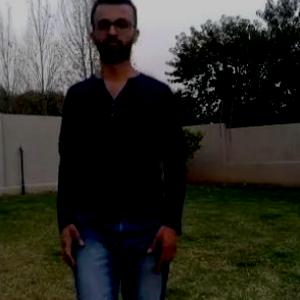follow: (66, 5, 160, 299)
